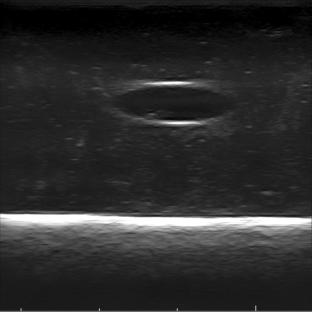vessel: (114, 80, 236, 126)
